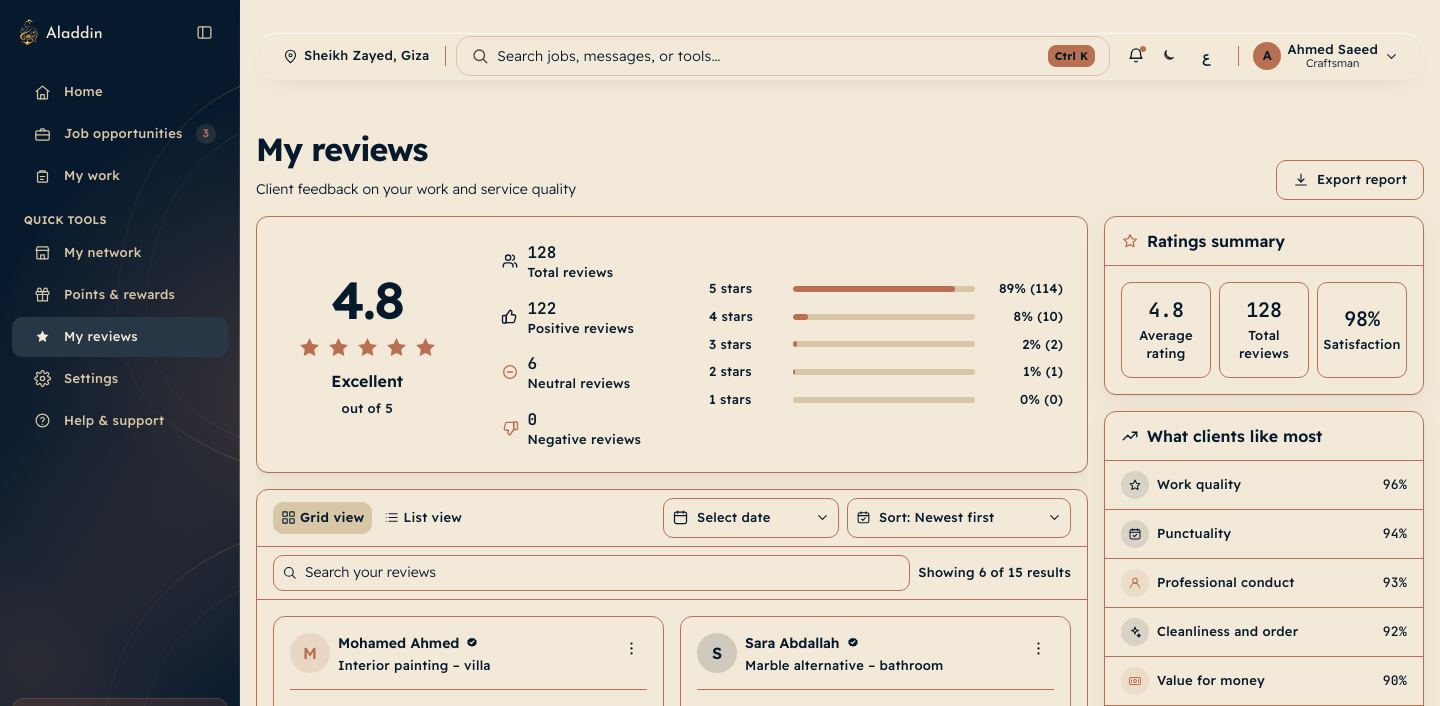
Test case: InstallerReviewsPreview › filters the preview review list with the compact search
The width and height of the screenshot is (1440, 706).
Expected: the text "Sara Abdallah" is shown, [745, 633, 840, 654]
In the field with placeholder "Search your reviews": point(603, 573) [305, 562, 901, 583], type "villa"
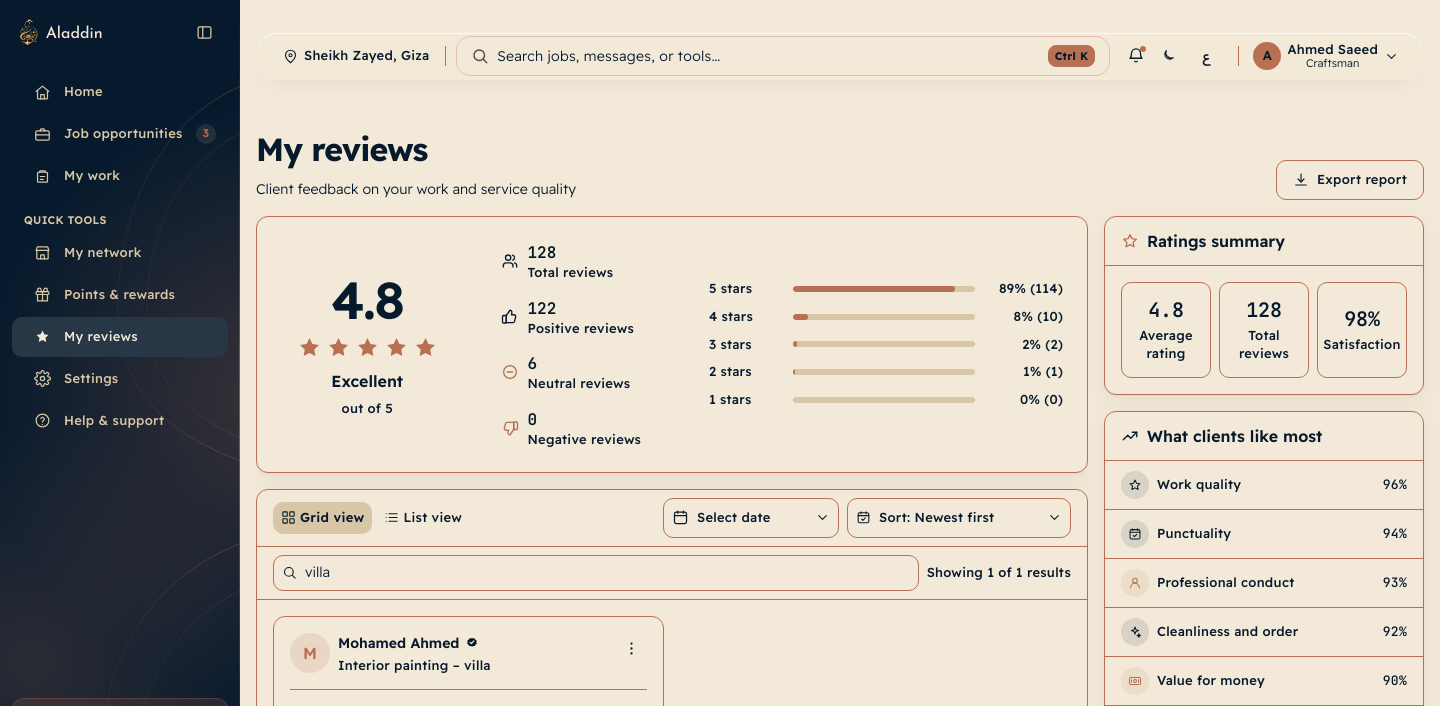
Expected: the text "Mohamed Ahmed" is shown, [338, 633, 459, 654]
Now the text "Sara Abdallah" is gone
